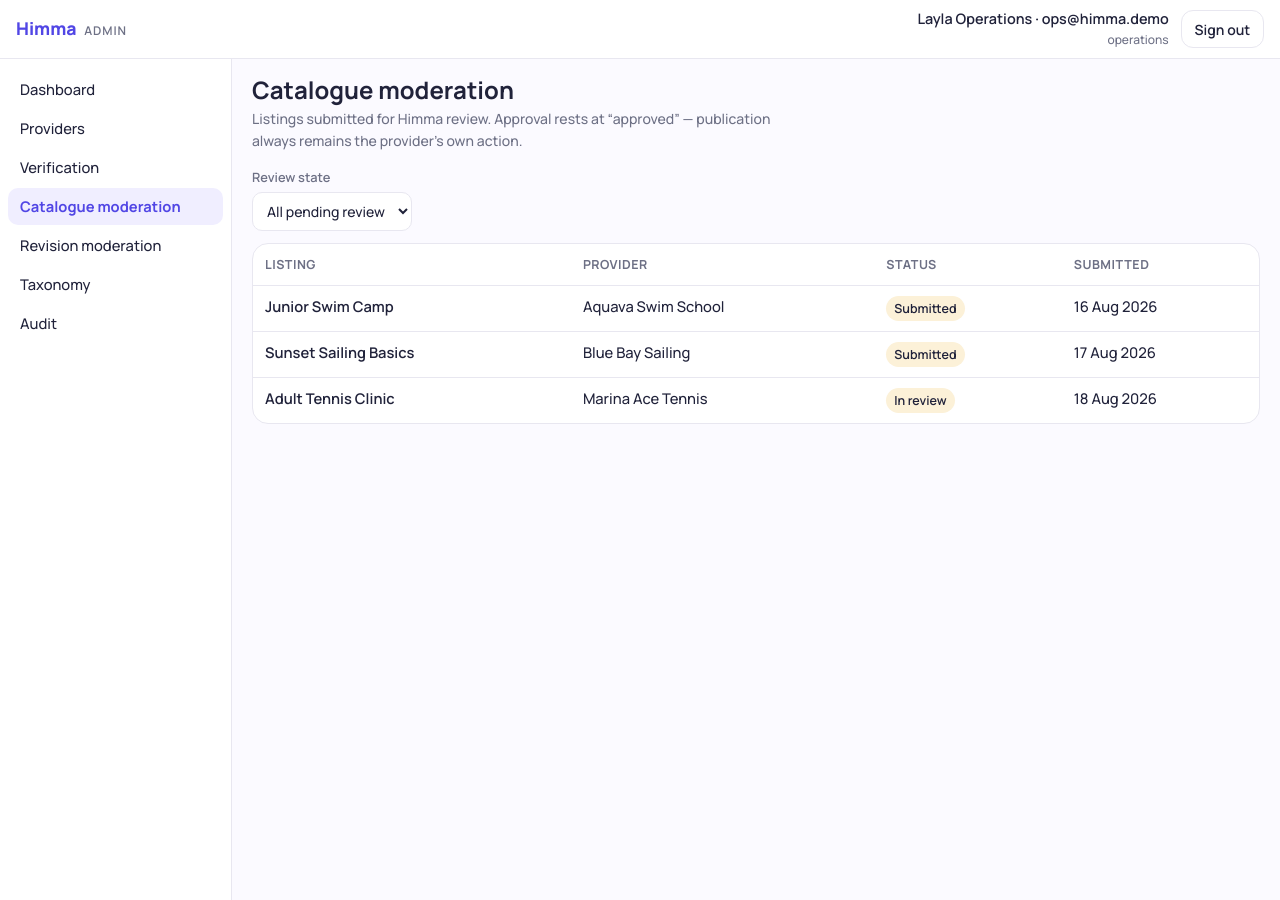
Test: the moderation queue (task §2/§8) › lists exactly the reviewable listings with provider identity; the state filter is server-driven
Expected: the link "Junior Swim Camp" is shown, x1=265 y1=296 x2=394 y2=316
Expected: the link "Sunset Sailing Basics" is shown, x1=265 y1=342 x2=414 y2=362
Select "Submitted" in the dropdown labelled "Review state" at coordinates (332, 212), box x1=252 y1=192 x2=412 y2=231
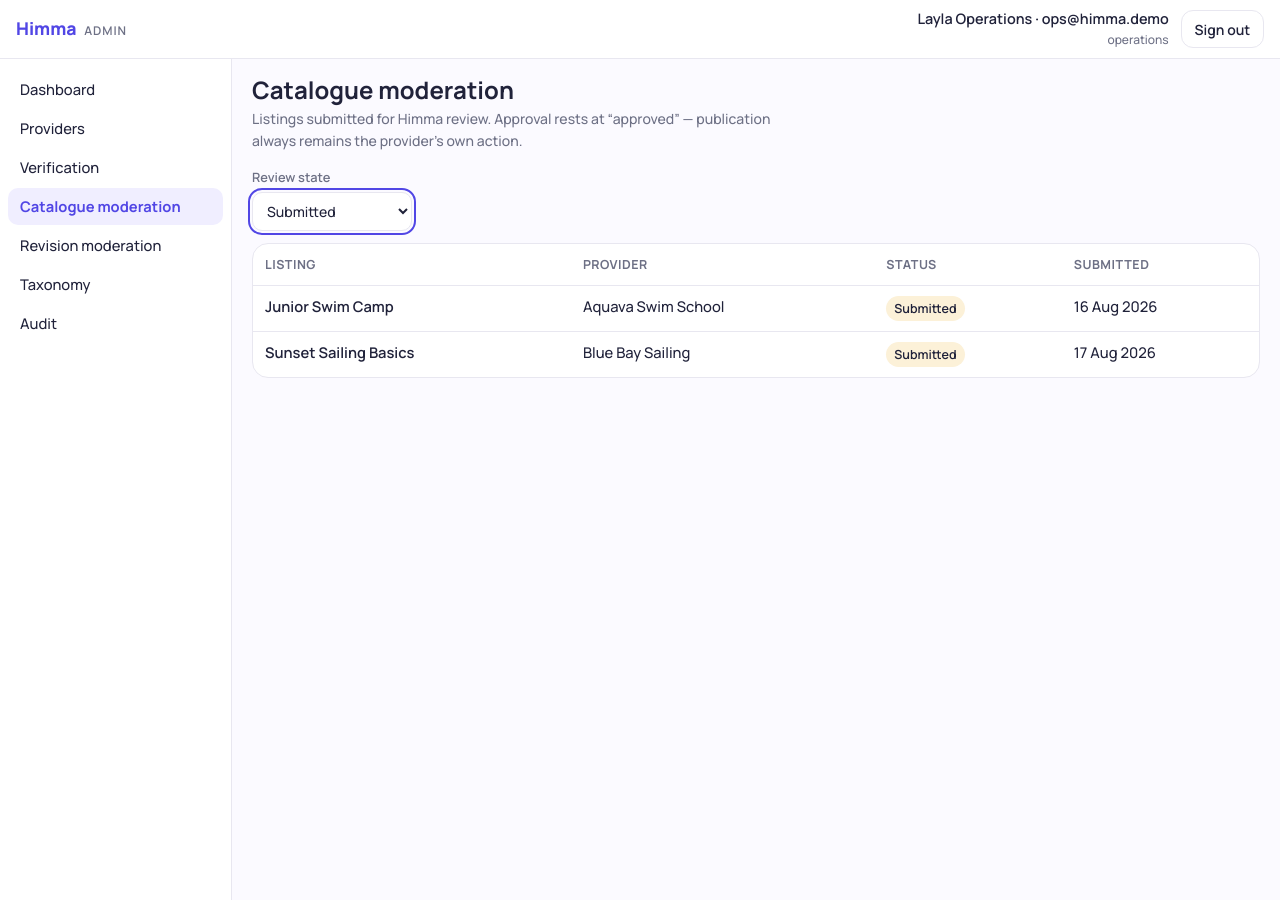
Expected: the link "Junior Swim Camp" is shown, x1=265 y1=296 x2=394 y2=316
Expected: the link "Adult Tennis Clinic" is gone
